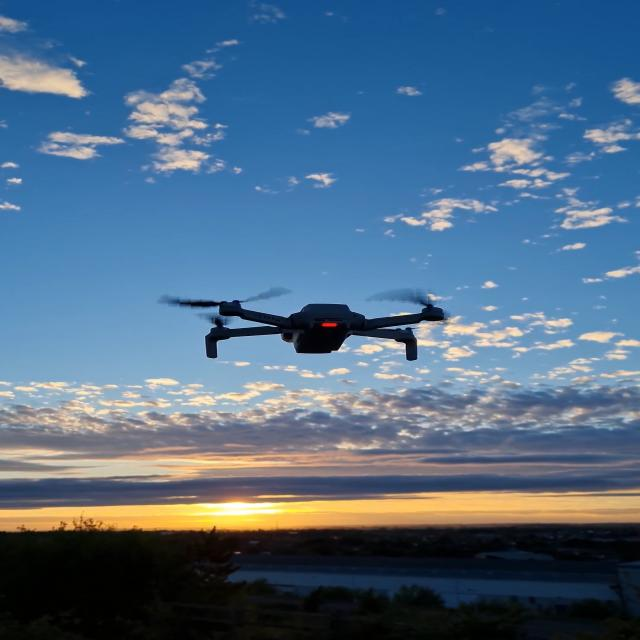Drone: (174, 299, 475, 368)
